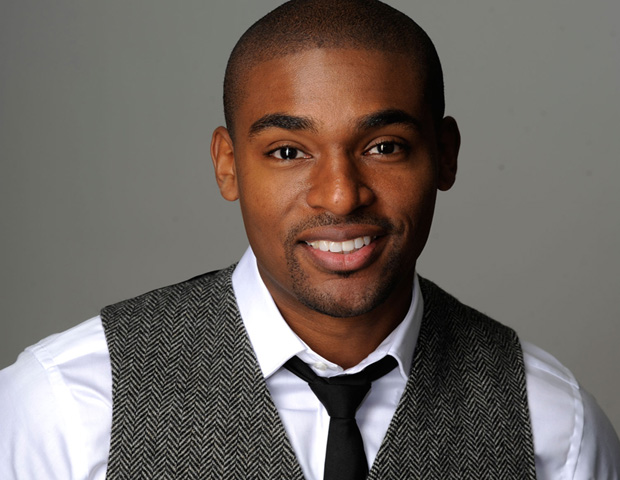bare: (239, 178, 443, 314)
